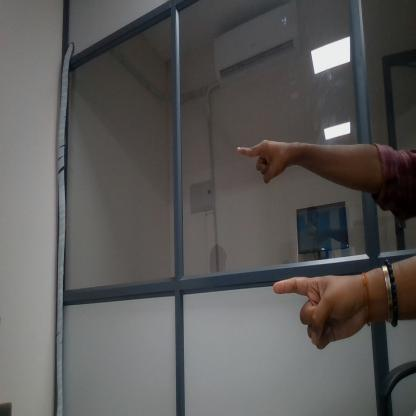Right: (262, 272, 371, 354), (232, 129, 312, 188)
